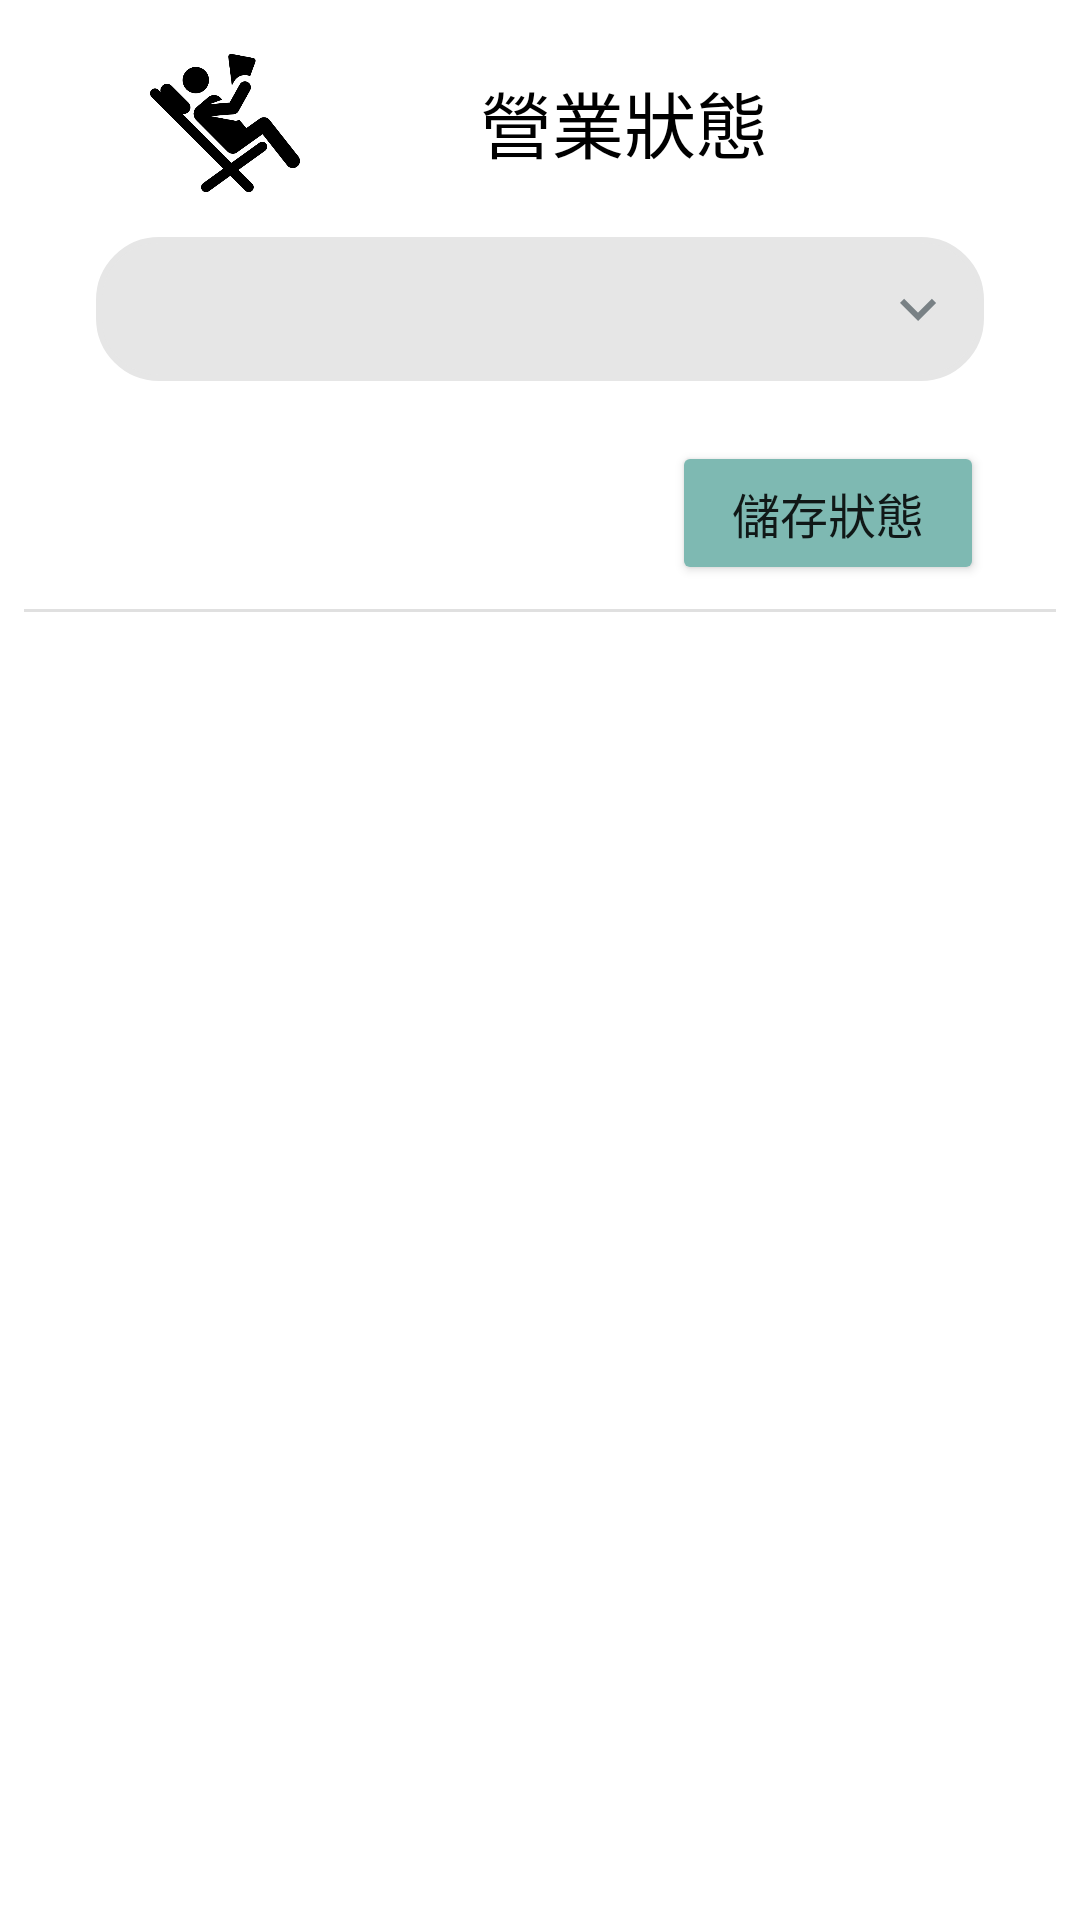

Locate icon controls on the screen. Image size 1080w x 1920h, boxes as (x1, y1, x2, y2).
relax: (150, 54, 300, 192)
